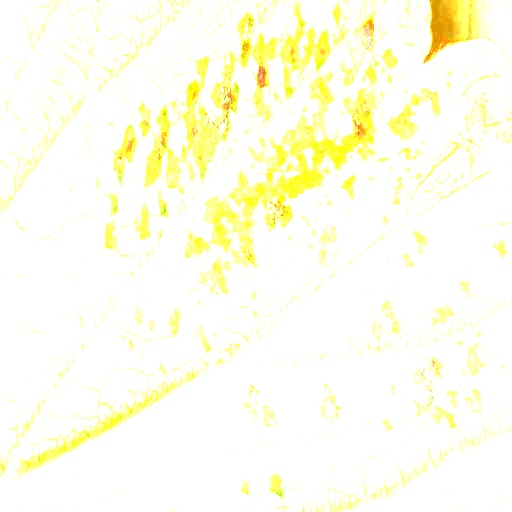Angular Leafspot: (64, 0, 511, 505)
